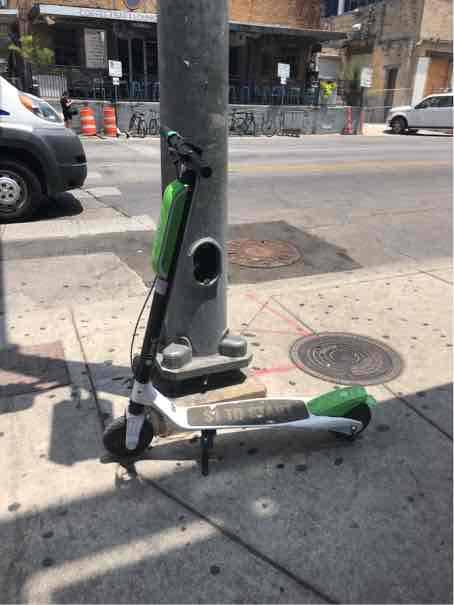scooter: (100, 125, 388, 466)
